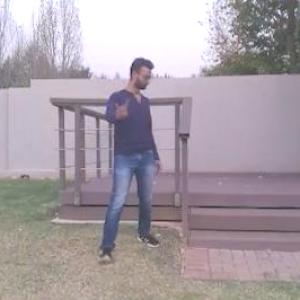takeoff-hand: (110, 92, 136, 126)
